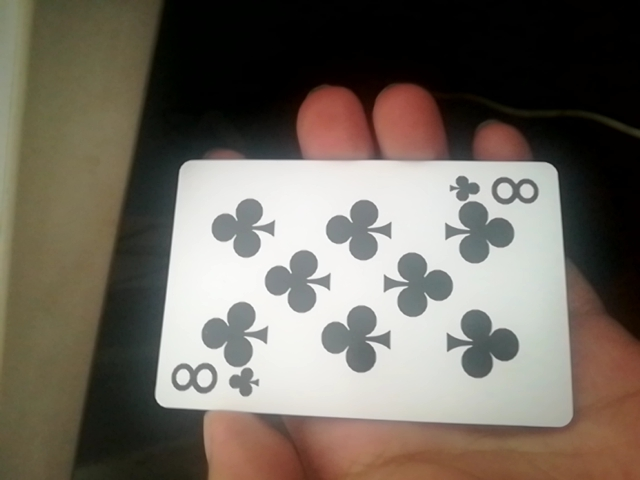mh 8: (148, 157, 576, 434)
